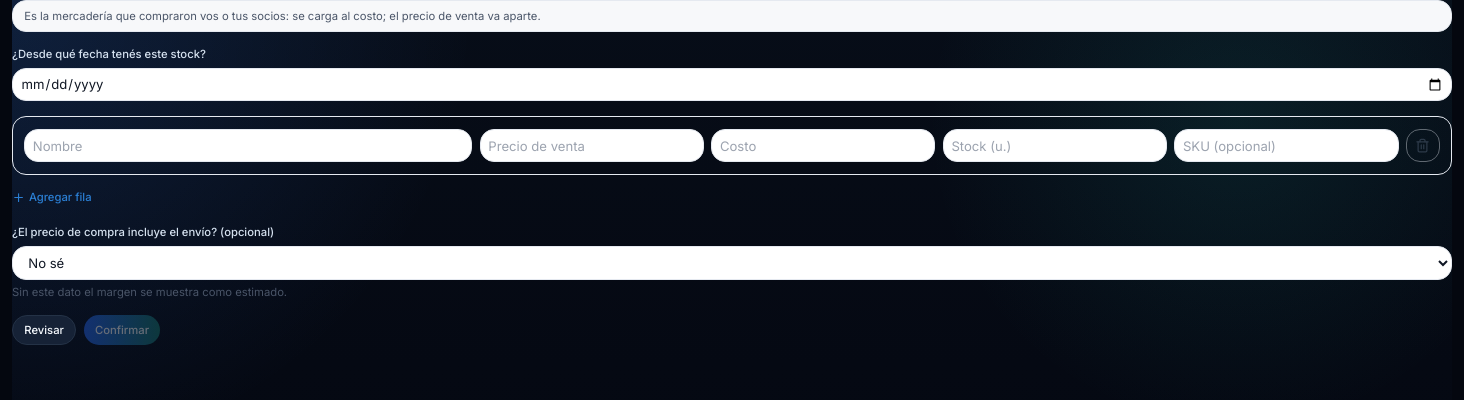
it: editar una fila después de revisar invalida la revisión
The width and height of the screenshot is (1464, 400).
Type "Vela aromática" into the field named "Nombre, fila 1" at (248, 146), box [24, 129, 472, 162]
Type "3000" into the field named "Precio de venta, fila 1" at (592, 146), box [480, 129, 704, 162]
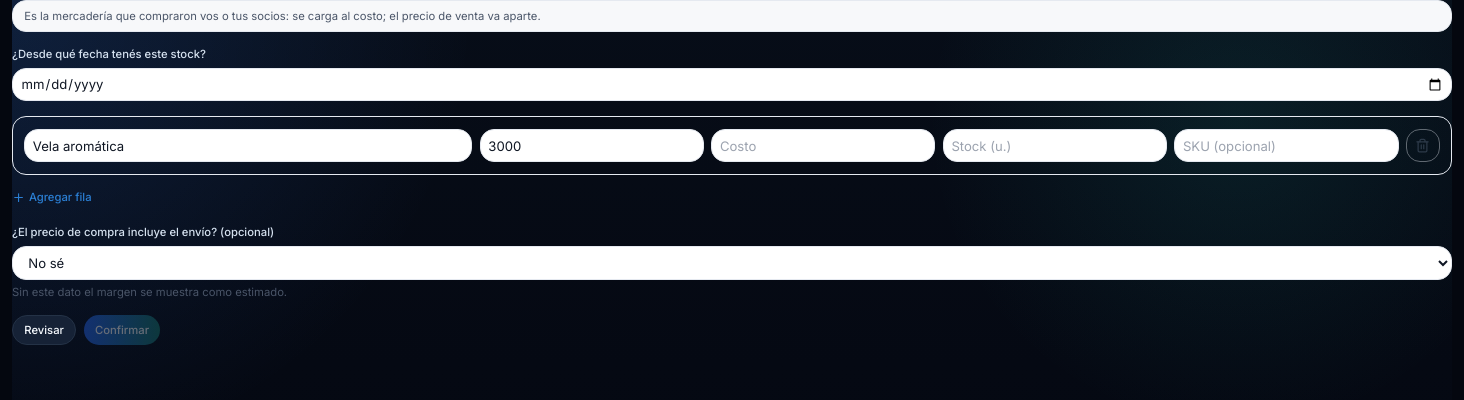
Type "1200" into the field named "Costo, fila 1" at (823, 146), box [711, 129, 935, 162]
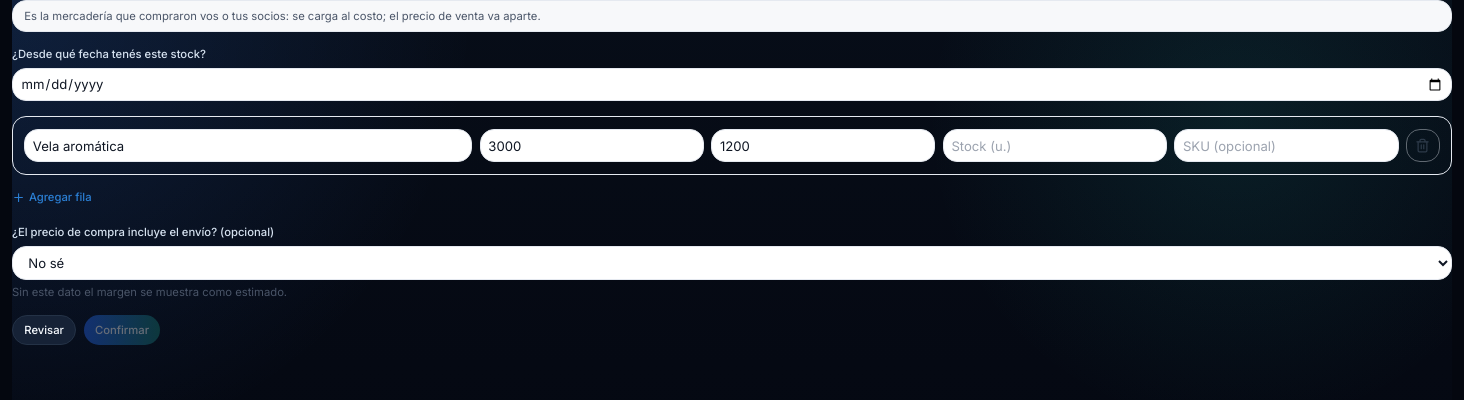
Type "10" into the field named "Stock, fila 1" at (1055, 146), box [943, 129, 1167, 162]
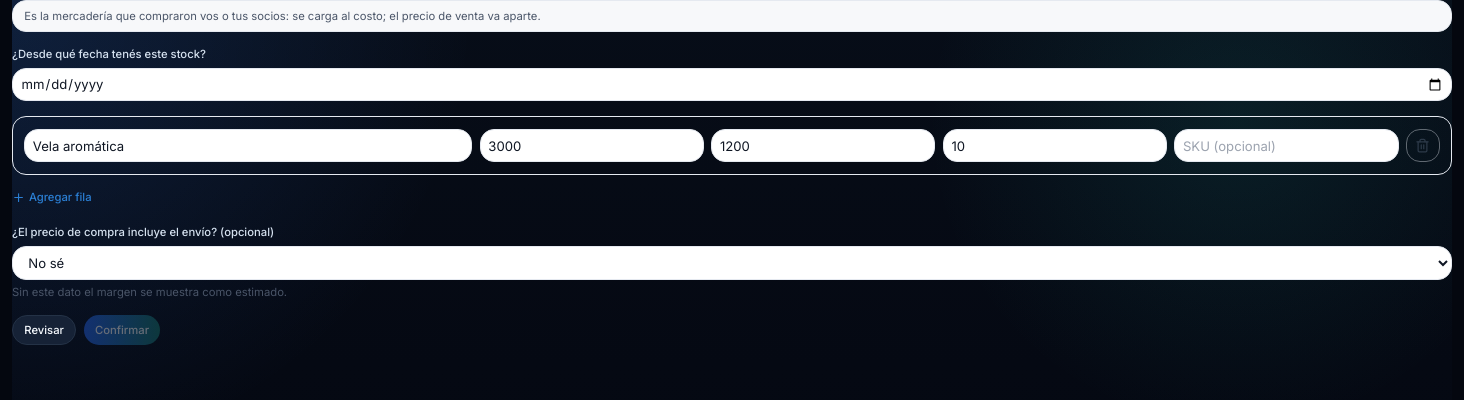
Type "2026-08-01" into the date field labelled "¿Desde qué fecha tenés este stock?" at (732, 84), box [12, 68, 1452, 101]
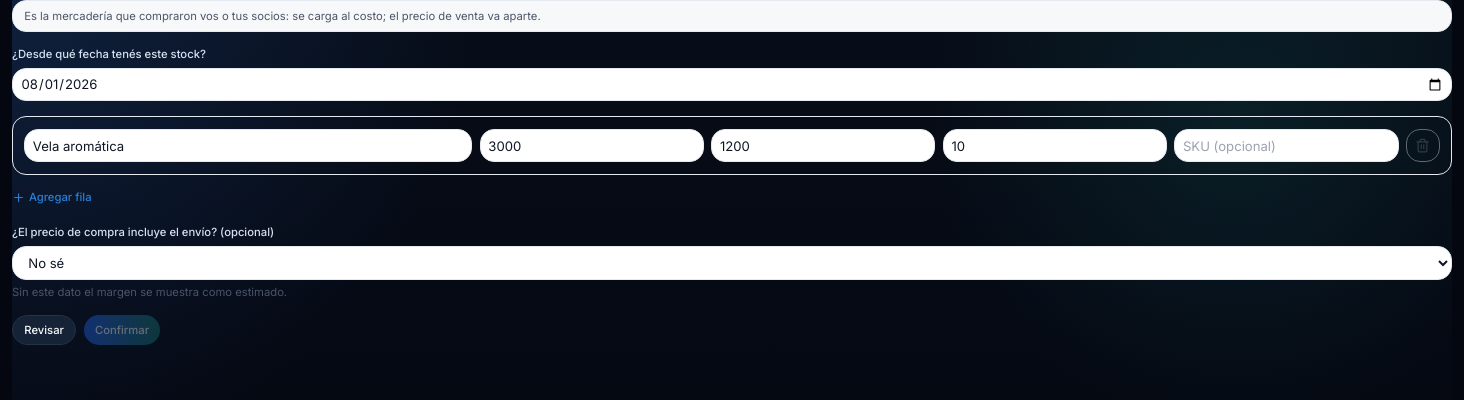
Click the button "Revisar" at (44, 330), box [12, 315, 76, 345]
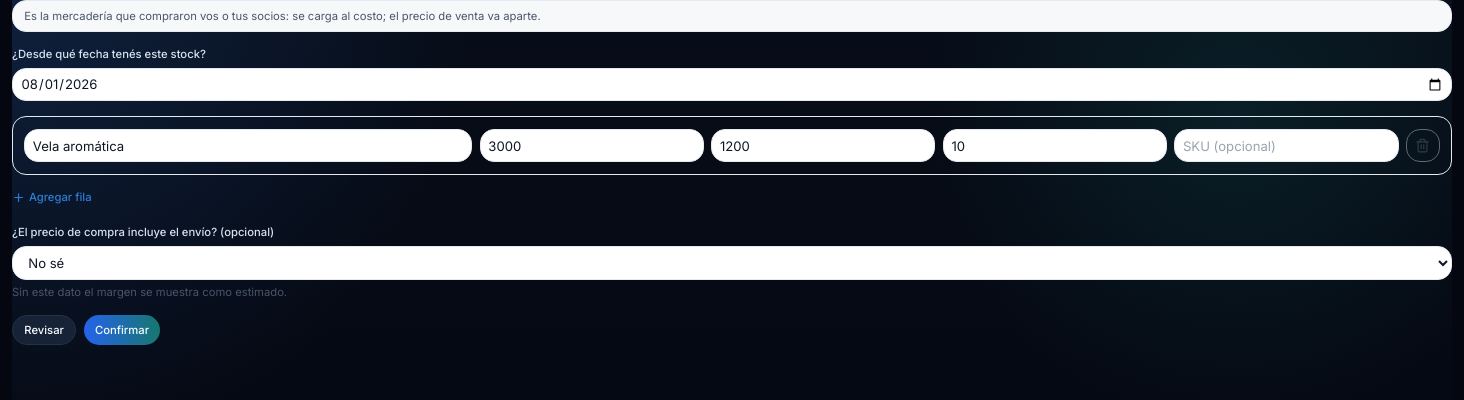
Now the button "Confirmar" is enabled, box [84, 315, 160, 345]
Replace the text in the field named "Stock, fila 1" with "12" at (1055, 146), box [943, 129, 1167, 162]
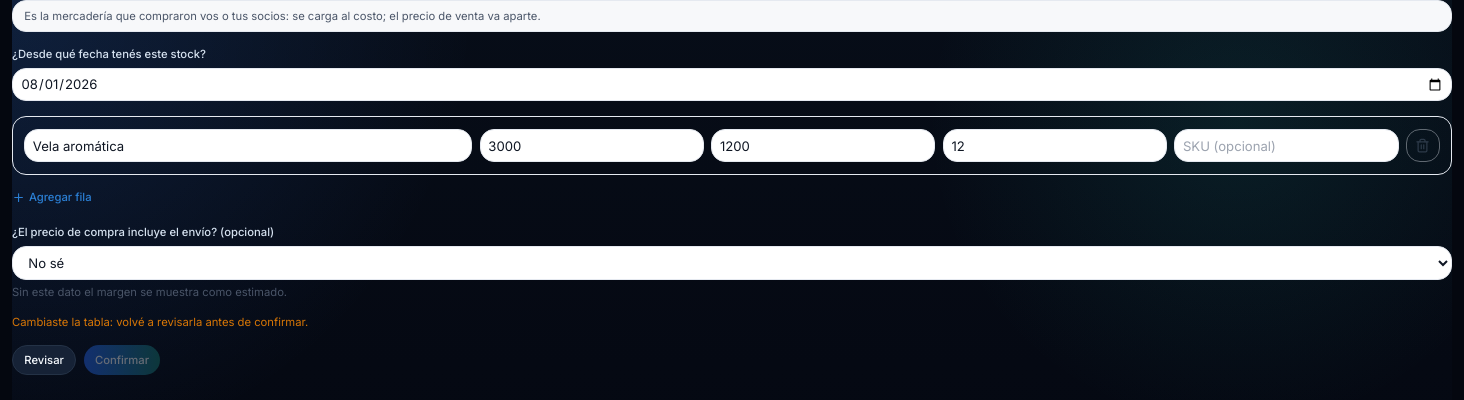
Now the button "Confirmar" is disabled, box [84, 345, 160, 375]
Now the text "Cambiaste la tabla: volvé a revisarla antes de confirmar." is shown, box [12, 315, 308, 329]
